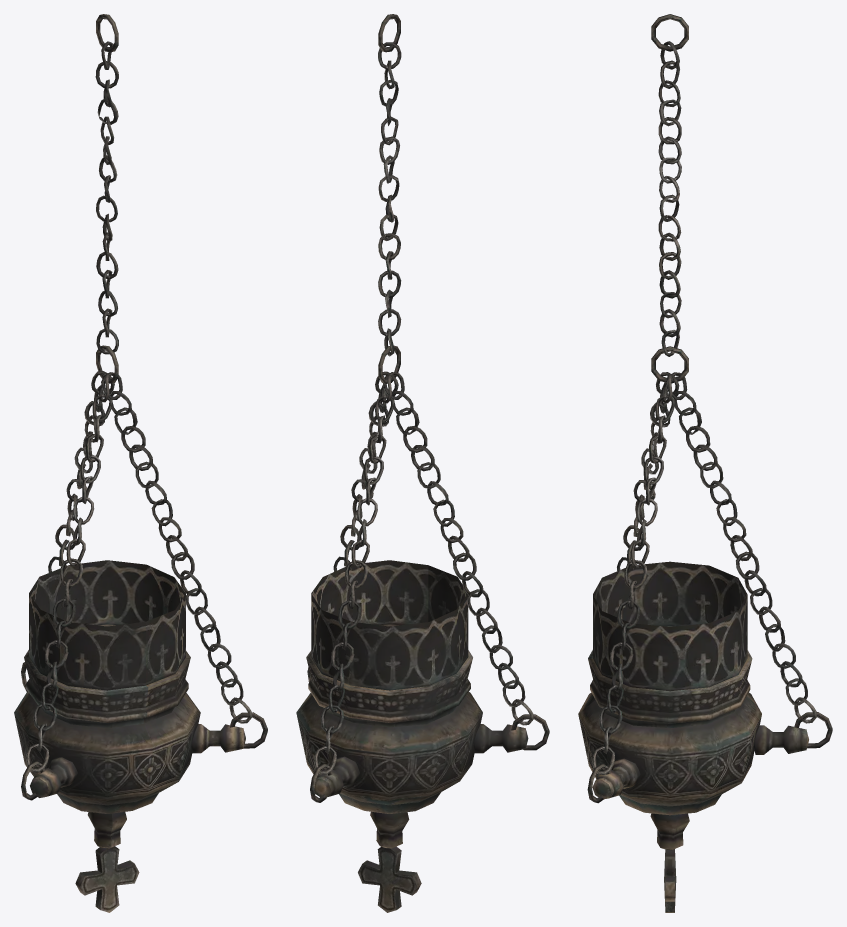
3 views of the same model, side by side, from view 1: azimuth 30°, elevation 25°; view 2: azimuth 150°, elevation 25°; view 3: azimuth 270°, elevation 25° (orthographic).
Visible parts, largest first — view 1: SM_Censer01_LOD0; view 2: SM_Censer01_LOD0; view 3: SM_Censer01_LOD0.
Part boxes in pixels (<box>): SM_Censer01_LOD0: <box>14,14,267,912</box>; SM_Censer01_LOD0: <box>296,14,549,912</box>; SM_Censer01_LOD0: <box>578,14,832,912</box>.
Bounding box in the file's own units: 3.13 × 10.95 × 2.81.
1 material, 1 textured.
